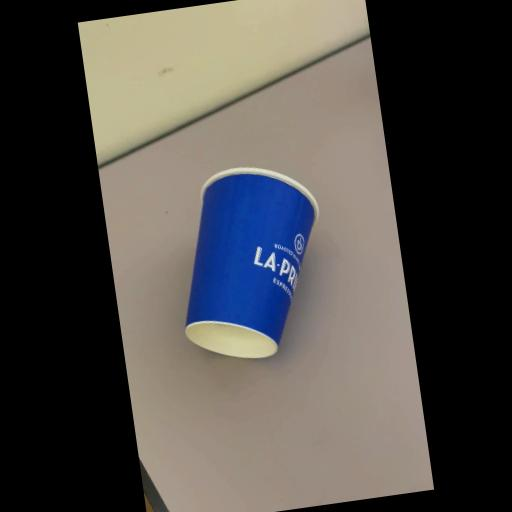lp_paper_cup: (162, 158, 342, 368)
